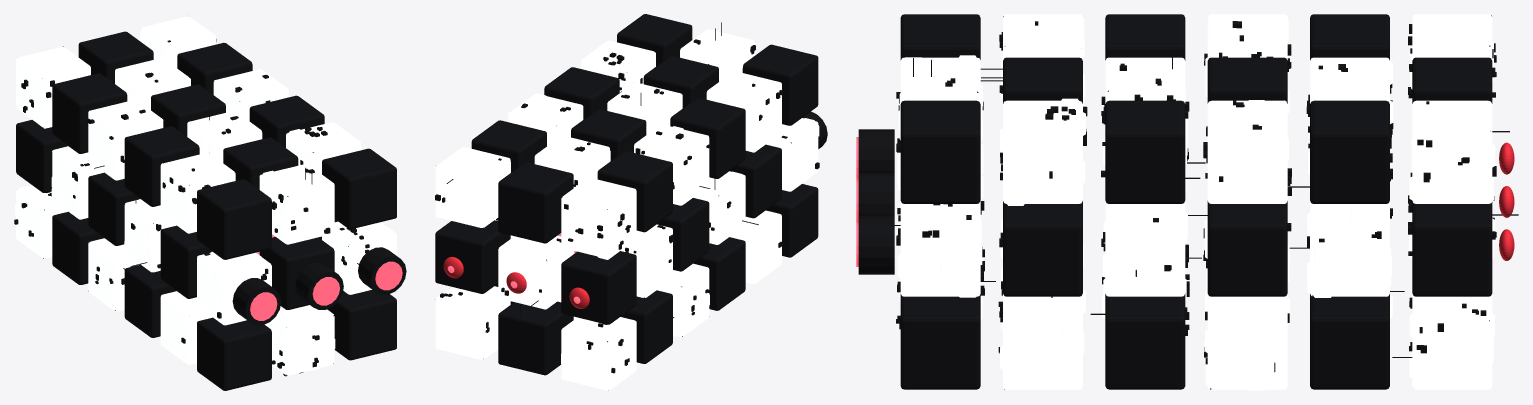
Rendered from nyx_large.glb.
3 views of the same model, side by side, from view 1: azimuth 30°, elevation 25°; view 2: azimuth 150°, elevation 25°; view 3: azimuth 270°, elevation 25° (orthographic). The views are drawn at different scales.
Visible parts, largest first — view 1: nyx_large; view 2: nyx_large; view 3: nyx_large.
Boxes of the visible parts, x1,y1,x2,y2 form: nyx_large: [14, 16, 406, 390]; nyx_large: [435, 14, 827, 390]; nyx_large: [856, 14, 1518, 390].
Size of the model in its own units: 5.04 by 4.91 by 10.06.
